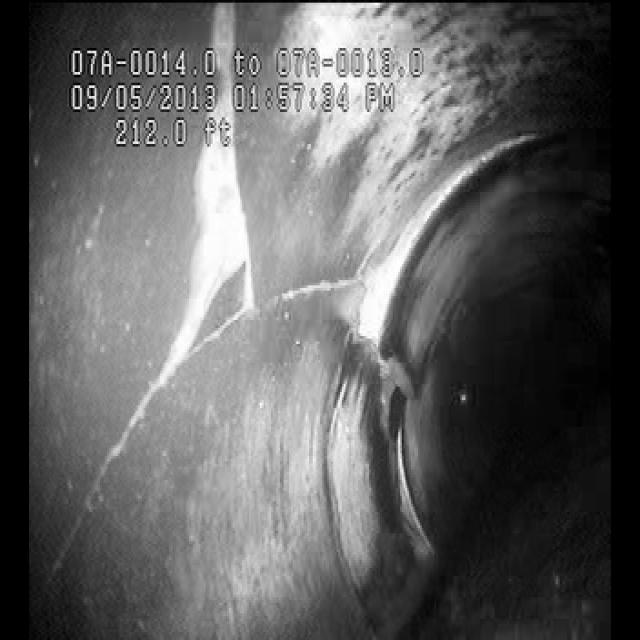Crack: (64, 164, 382, 532)
